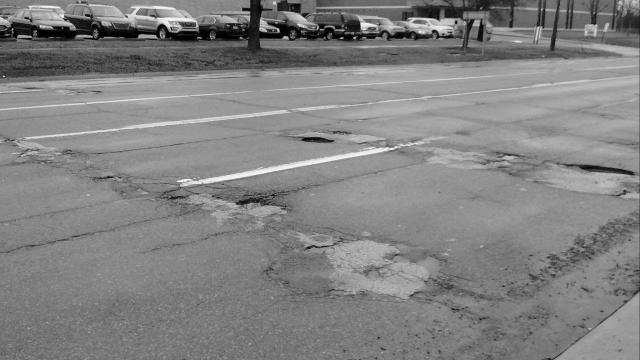Pothole: (479, 198, 640, 360), (555, 150, 640, 193), (234, 191, 288, 225), (291, 122, 339, 158)
